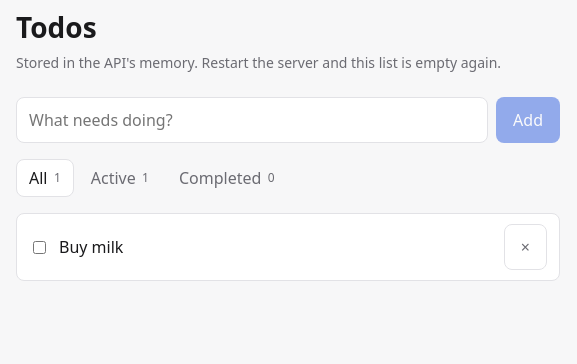
Test: TodoApp › error handling › rolls back an optimistic toggle when the request fails
Click the checkbox labelled "Buy milk" at (40, 247), box [33, 240, 46, 254]
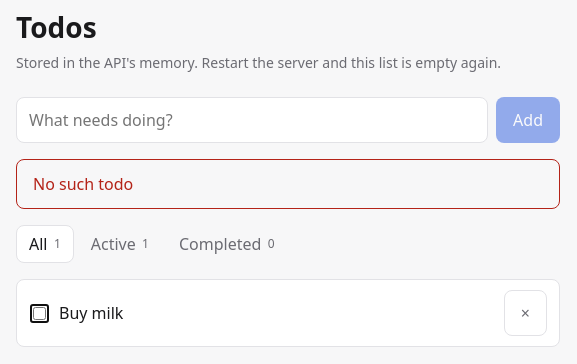
Expected: the checkbox labelled "Buy milk" is not checked, [33, 306, 46, 320]
Result: the message reads "No such todo" at [33, 173, 133, 195]
